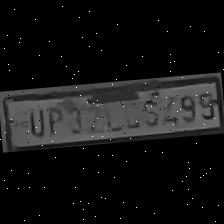2: (82, 98, 104, 133)
3: (62, 99, 84, 136)
4: (159, 91, 179, 125)
9: (194, 86, 220, 121), (176, 88, 198, 122)
P: (43, 101, 64, 135)
S: (139, 92, 161, 128)
U: (23, 103, 46, 137)
